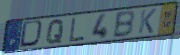4: (90, 13, 110, 41)
B: (112, 10, 136, 39)
D: (18, 19, 46, 49)
K: (137, 7, 158, 35)
L: (68, 17, 86, 43)
Q: (45, 18, 66, 45)
